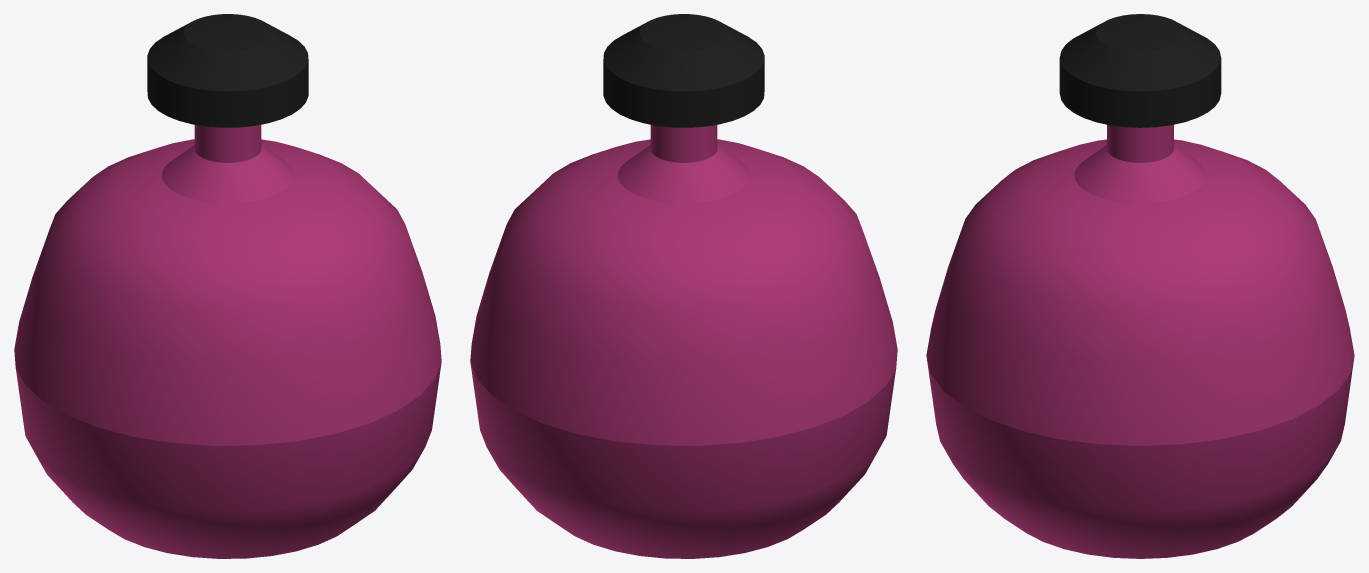
Rendered from bottle27.glb.
The picture shows the model from 3 angles, left to right: view 1: azimuth 30°, elevation 25°; view 2: azimuth 150°, elevation 25°; view 3: azimuth 270°, elevation 25°; orthographic projection.
Parts seen in each view (by area): view 1: Bottle27; view 2: Bottle27; view 3: Bottle27.
Boxes of the visible parts, x1=… form: Bottle27: x1=14, y1=14, x2=441, y2=558; Bottle27: x1=470, y1=14, x2=897, y2=558; Bottle27: x1=926, y1=14, x2=1354, y2=558.
Bounding box in the file's own units: 0.7625 × 0.925 × 0.7625.
